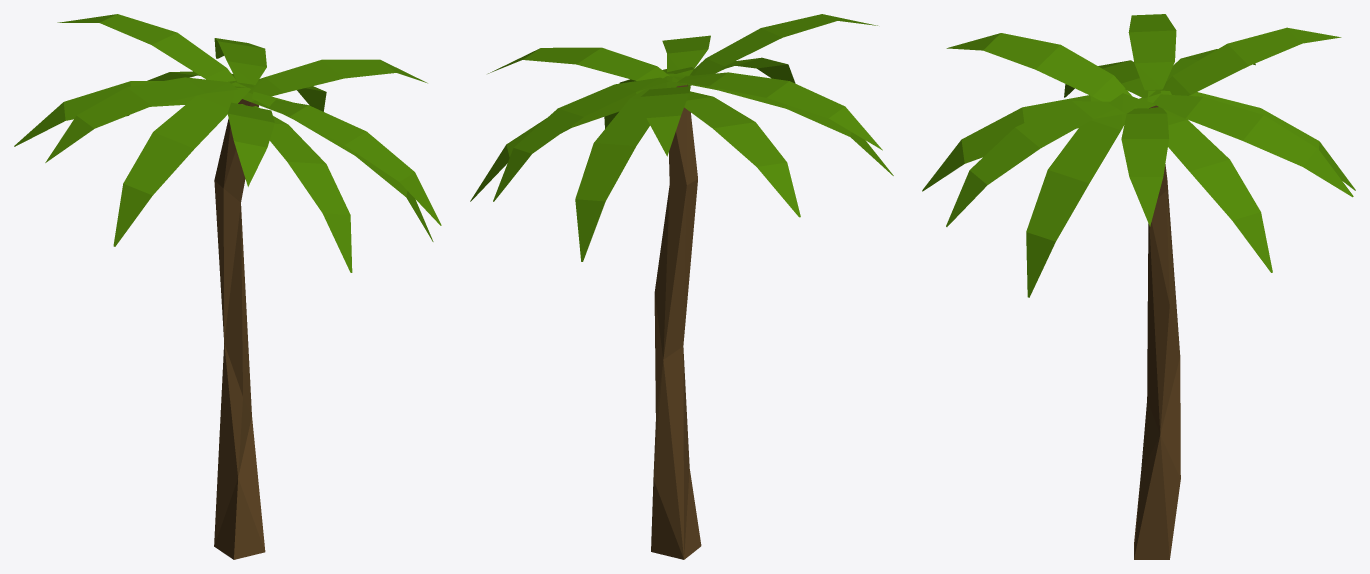
Rendered from trop-rain.average.deepgreen-op0.9.gltf.
3 renders of one model, left to right at view 1: azimuth 30°, elevation 25°; view 2: azimuth 150°, elevation 25°; view 3: azimuth 270°, elevation 25°, orthographic. The views are drawn at different scales.
Visible parts, largest first — view 1: Plane; view 2: Plane; view 3: Plane.
Boxes of the visible parts, x1,y1,x2,y2 form: Plane: (14,14,441,559); Plane: (470,14,893,559); Plane: (922,14,1355,559).
Bounding box in the file's own units: 0.7649 × 0.9313 × 0.7475.
1 material, 1 textured.
